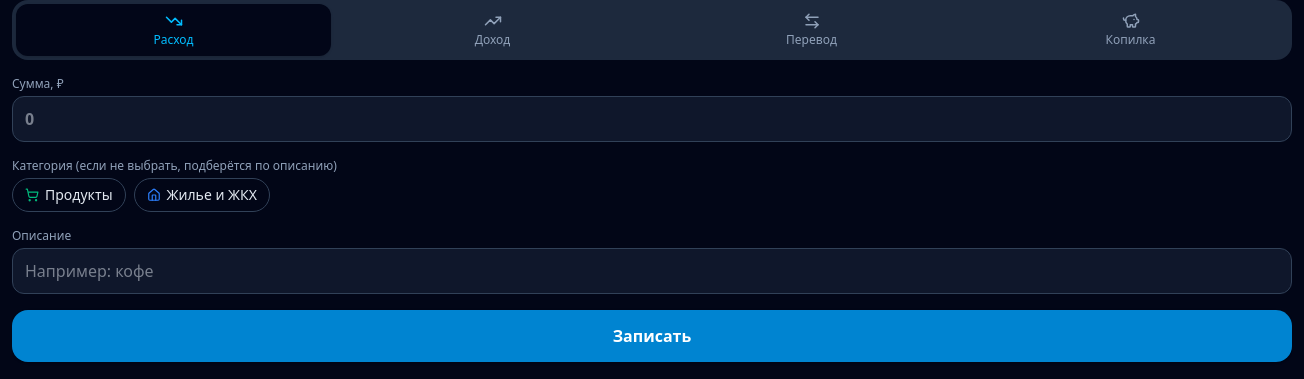
EntryForm (Mini App input) › shows only income categories on the income tab
This screenshot has width=1304, height=379.
expect the element named "Тип записи" is shown: met, box [12,0,1292,60]
Click the tab "Доход". click: (492, 30)
box: [335,4,650,56]
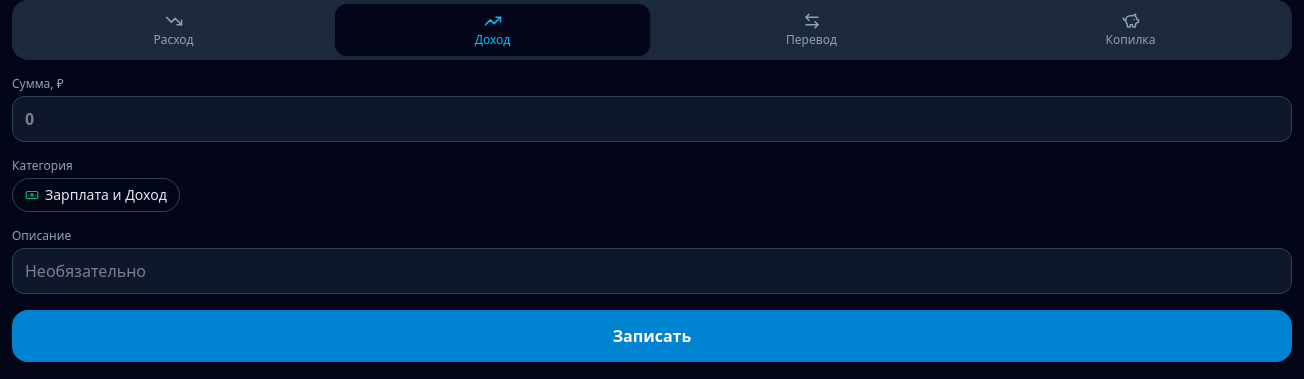
expect the button "Зарплата и Доход" is shown: met, box [12,178,180,212]
expect the button "Продукты" is gone: met
